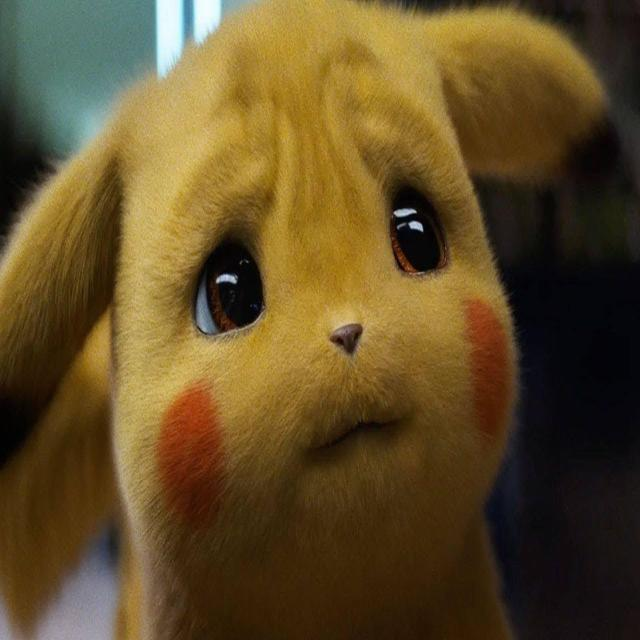pikachu: (2, 1, 613, 636)
